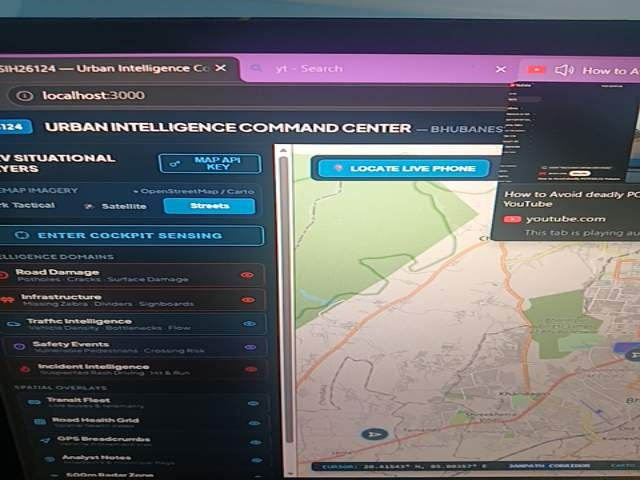pothole: (104, 162, 313, 305), (104, 403, 311, 480)
